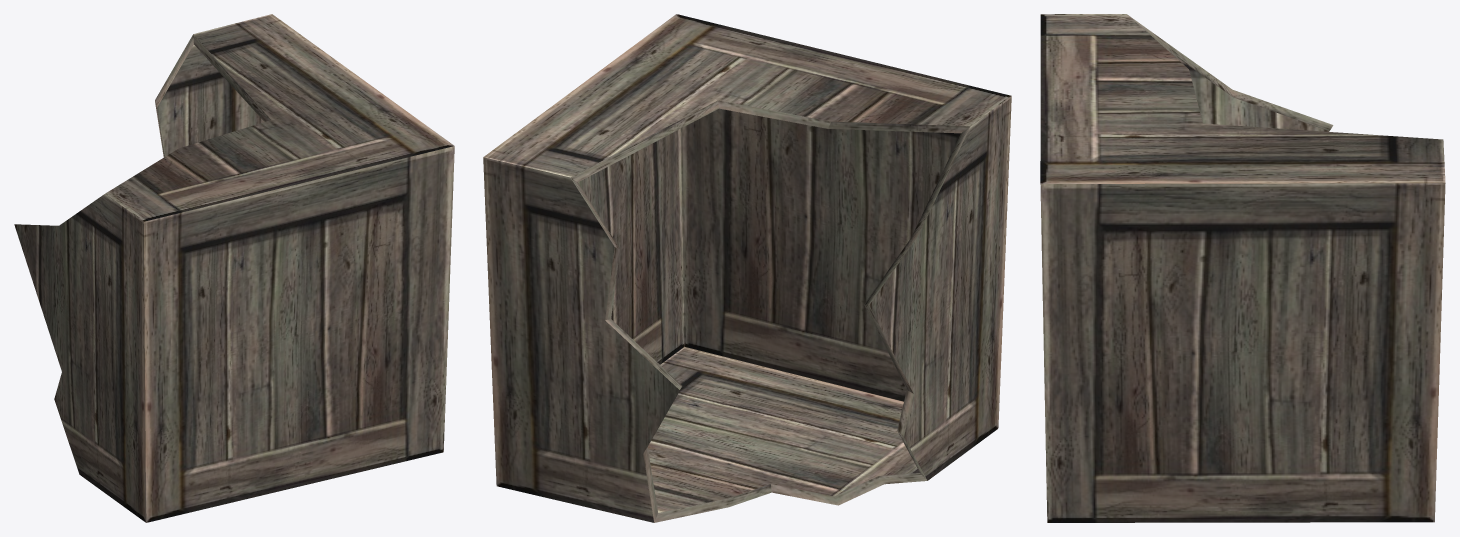
The model's file is pir_m_prp_cnt_crateC_destroyed.fbx.
The picture shows the model from 3 angles, left to right: view 1: azimuth 30°, elevation 25°; view 2: azimuth 150°, elevation 25°; view 3: azimuth 270°, elevation 25°; orthographic projection. The views are drawn at different scales.
Parts seen in each view (by area): view 1: lod_high; view 2: lod_high; view 3: lod_high.
Part boxes in pixels (left/top/right/bottom): lod_high: left=14, top=14, right=454, bottom=522; lod_high: left=483, top=14, right=1011, bottom=522; lod_high: left=1040, top=14, right=1445, bottom=522.
Size of the model in its own units: 327 by 308 by 330.
Materials: 1 (1 with a texture image).
